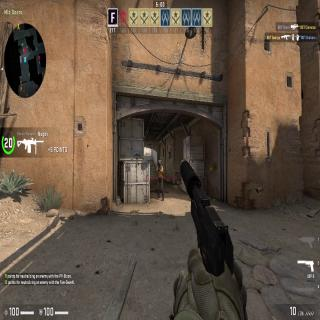CT-Body: (156, 160, 164, 202)
CT-Head: (158, 160, 161, 167)
